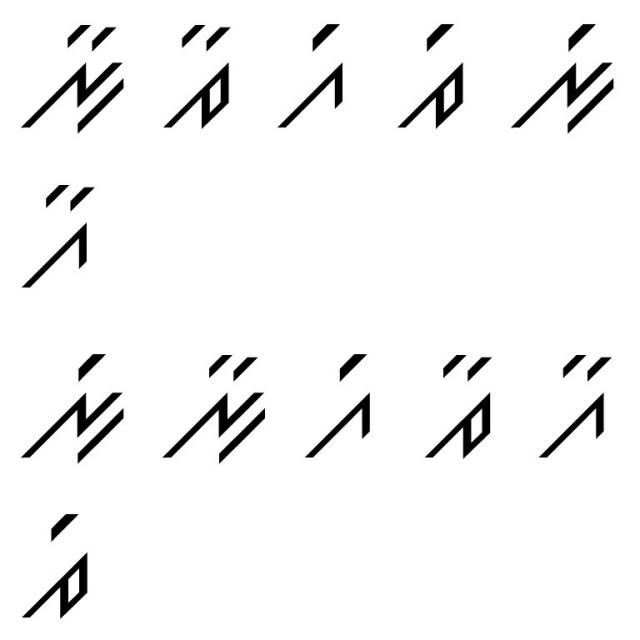gan: (23, 179, 102, 295), (535, 346, 614, 462)
gang: (294, 344, 374, 471), (274, 21, 358, 135)
ngan: (161, 348, 277, 467), (13, 17, 127, 136)
ngang: (502, 16, 618, 143), (13, 346, 127, 467)
tan: (421, 338, 508, 472), (161, 17, 240, 136)
tang: (397, 17, 474, 135), (21, 504, 97, 623)
